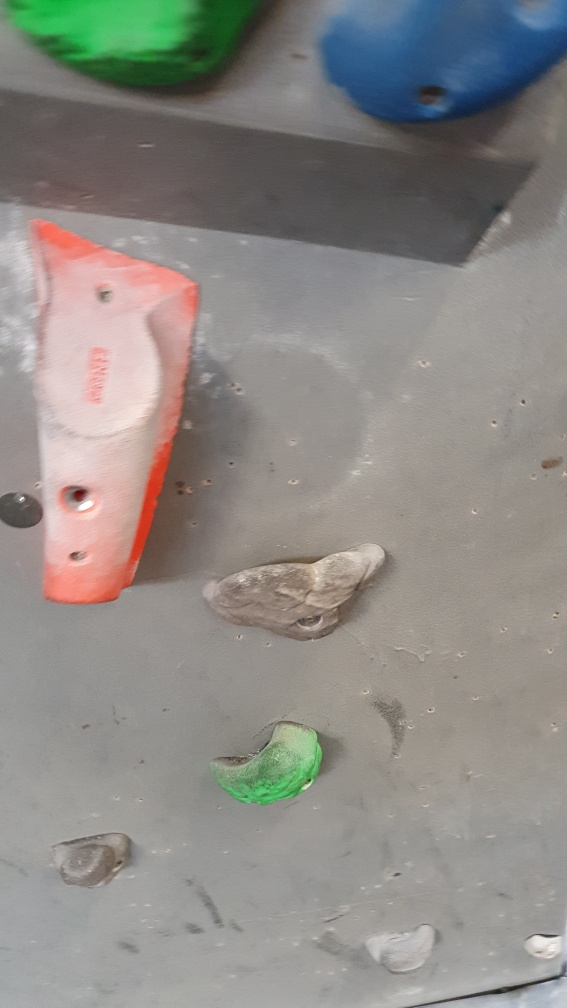Hand Start: (1, 485, 44, 537)
Jug: (201, 540, 390, 644), (205, 719, 330, 810), (367, 922, 441, 977)
Pinch: (24, 219, 204, 607)
